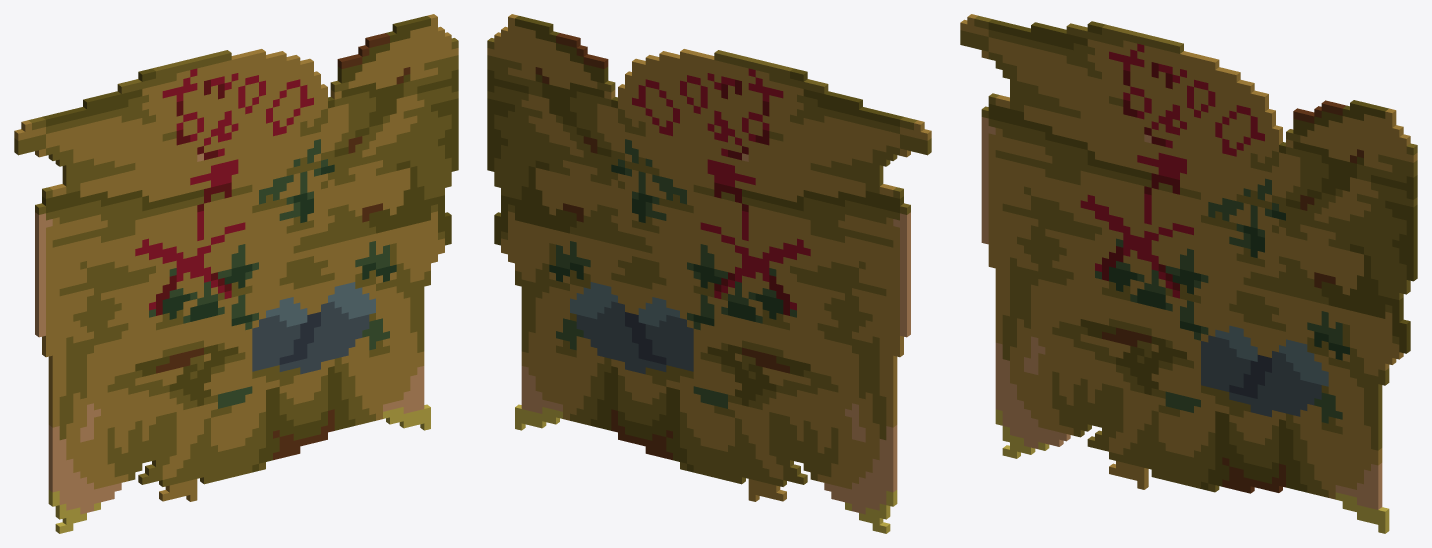
The model's file is map.fbx.
3 views of the same model, side by side, from view 1: azimuth 30°, elevation 25°; view 2: azimuth 150°, elevation 25°; view 3: azimuth 330°, elevation 25° (orthographic). The views are drawn at different scales.
Visible parts, largest first — view 1: generated; view 2: generated; view 3: generated.
Boxes of the visible parts, x1,y1,x2,y2 form: generated: (14,14,458,533); generated: (487,14,931,533); generated: (960,14,1417,533).
Bounding box in the file's own units: 640 × 610 × 10.
